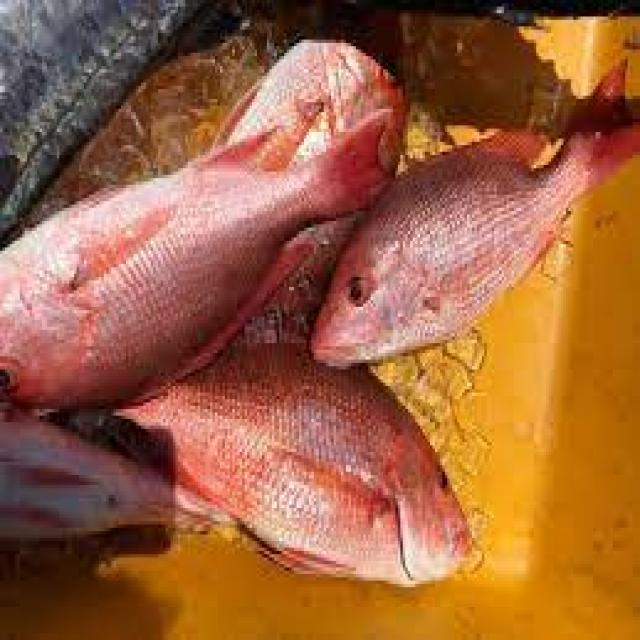northern-red-snapper: (4, 106, 392, 414), (345, 60, 637, 394), (130, 339, 492, 599)
